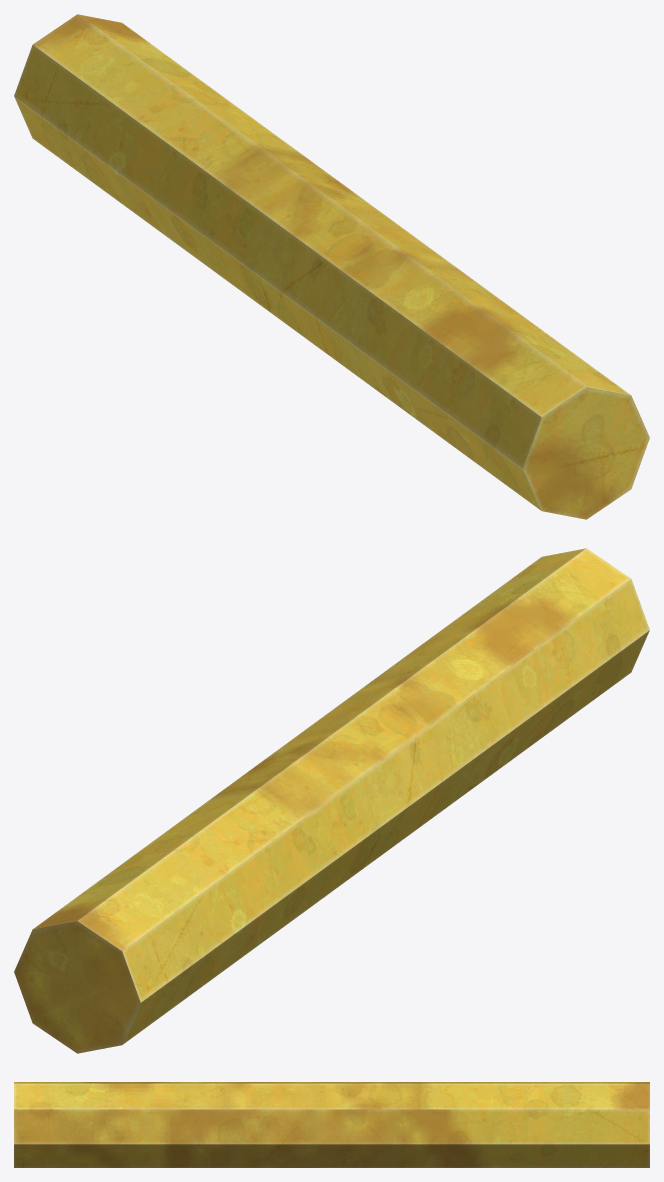
File: GoldRod.glb
3 views of the same model, one above another, from view 1: azimuth 30°, elevation 25°; view 2: azimuth 150°, elevation 25°; view 3: azimuth 270°, elevation 25° (orthographic). The views are drawn at different scales.
Visible parts, largest first — view 1: GoldRod; view 2: GoldRod; view 3: GoldRod.
Boxes of the visible parts, left/top/right/bottom form: GoldRod: left=14, top=14, right=649, bottom=519; GoldRod: left=14, top=548, right=649, bottom=1053; GoldRod: left=14, top=1082, right=649, bottom=1167.
Size of the model in its own units: 0.1162 by 0.1162 by 0.8081.
Materials: 1 (1 with a texture image).
